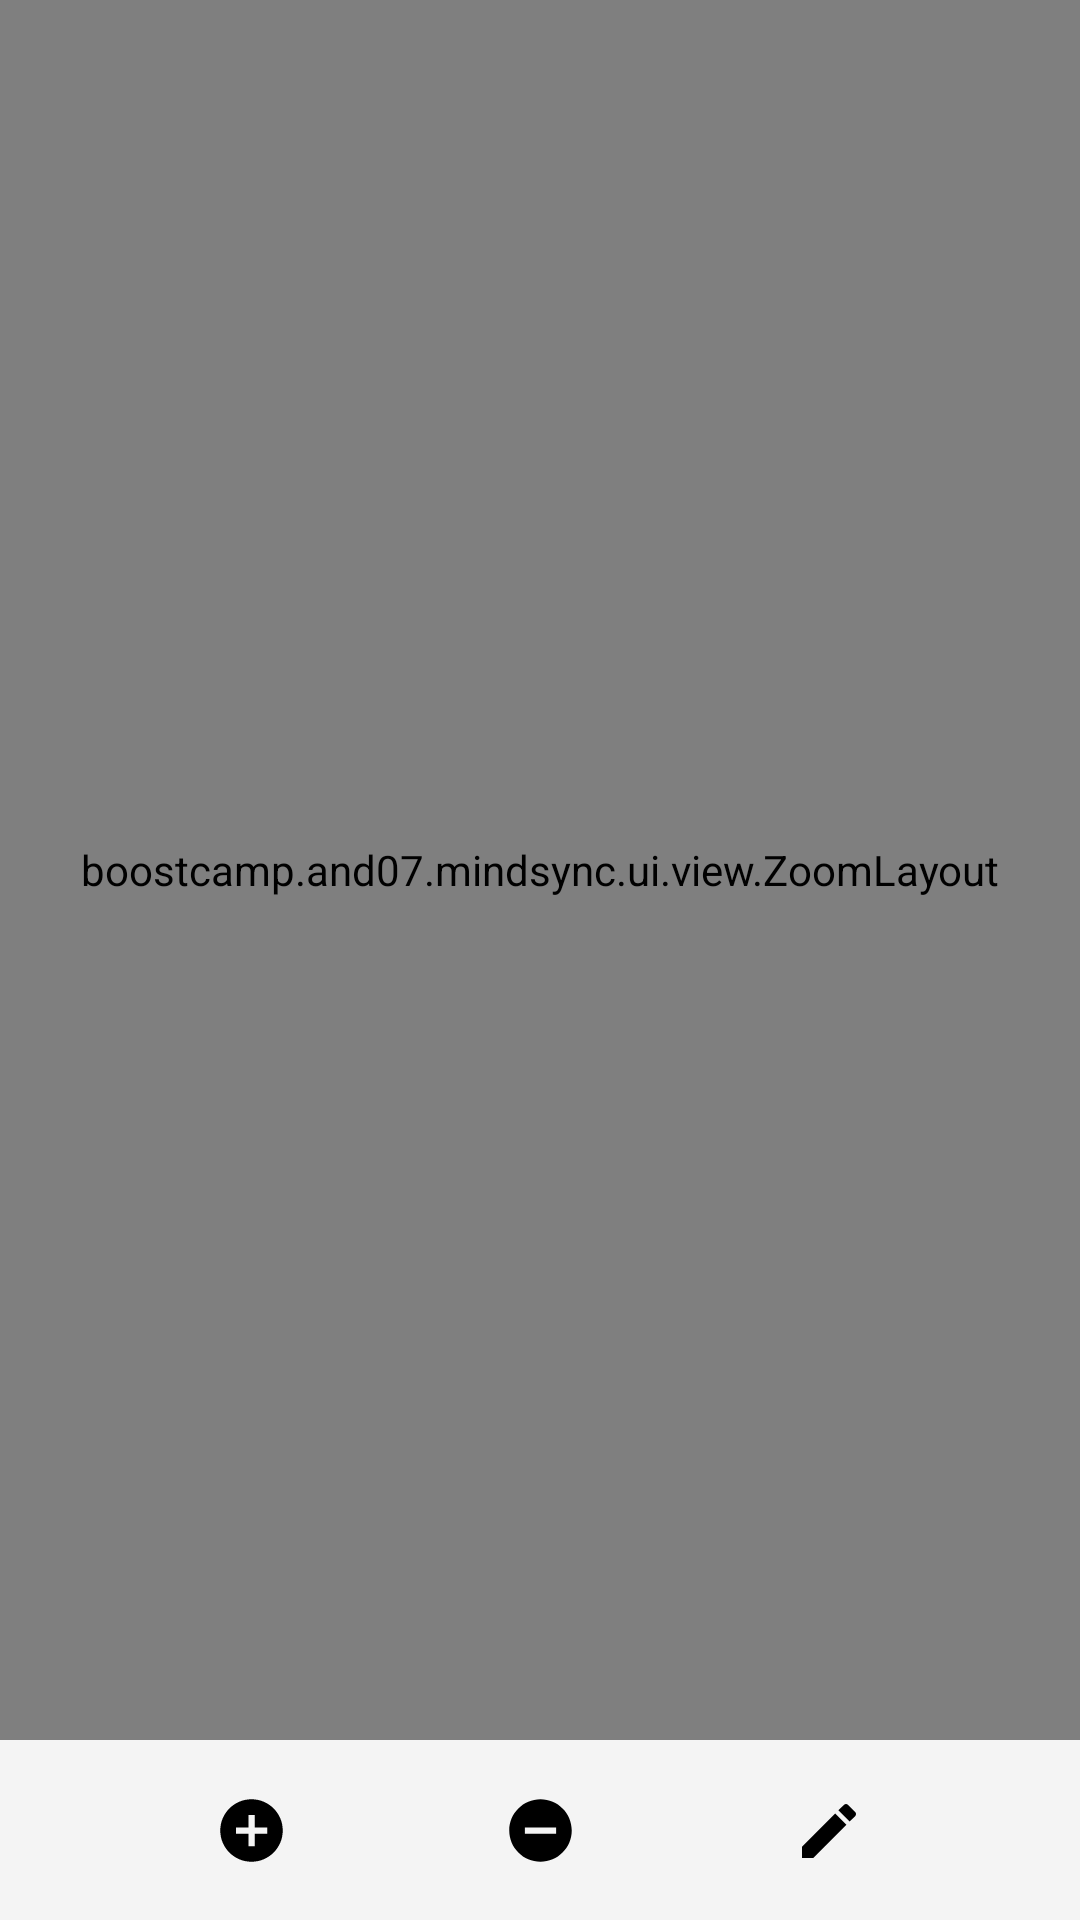

Icon bounding boxes for this 1080*1920 phone screenshot, format region(x1, y1, x2, y2):
add: region(220, 1799, 283, 1862)
drawing: region(802, 1804, 856, 1858)
